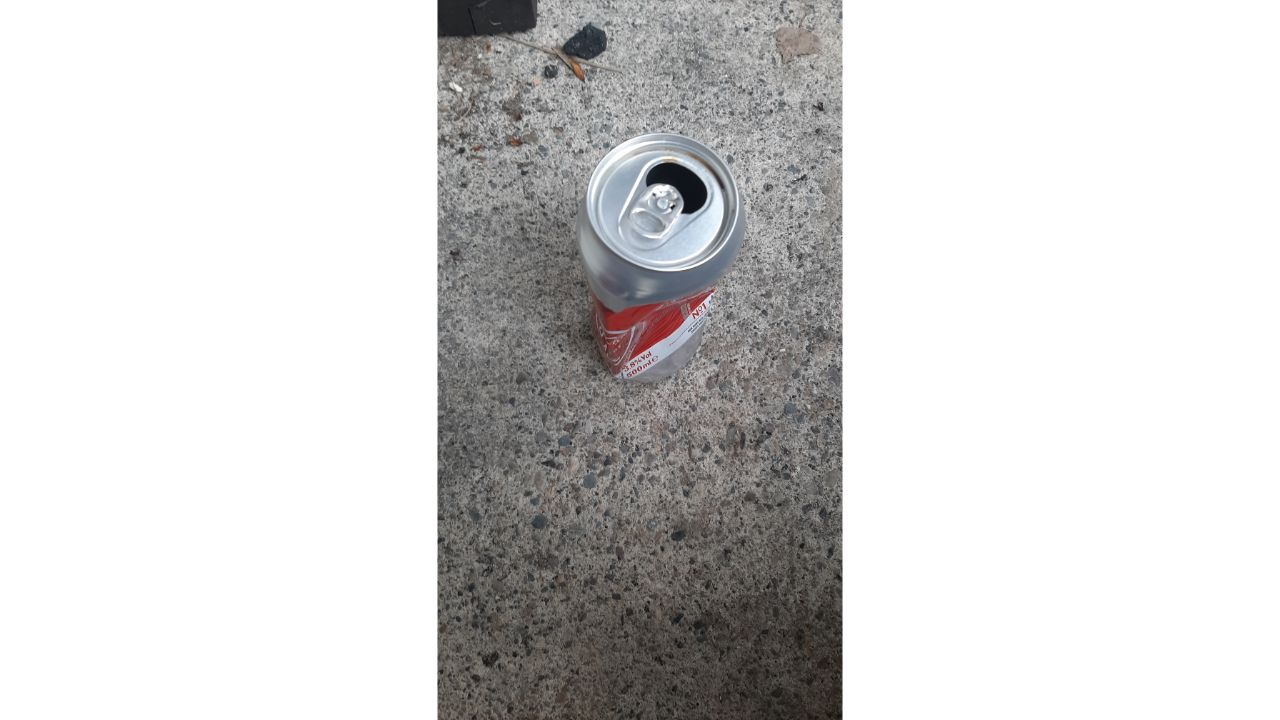Can: (576, 134, 742, 393)
